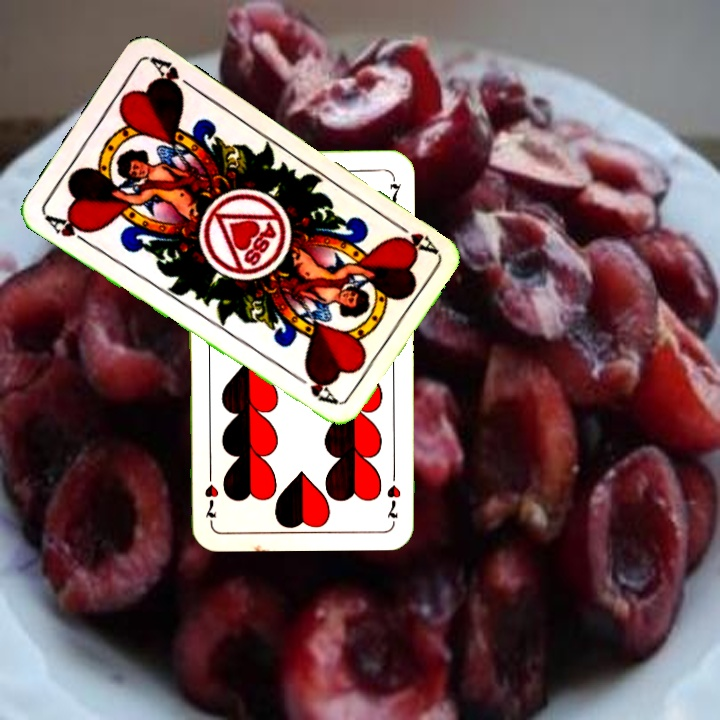H7: (383, 465, 404, 524)
HA: (41, 210, 97, 249), (386, 216, 440, 256)
